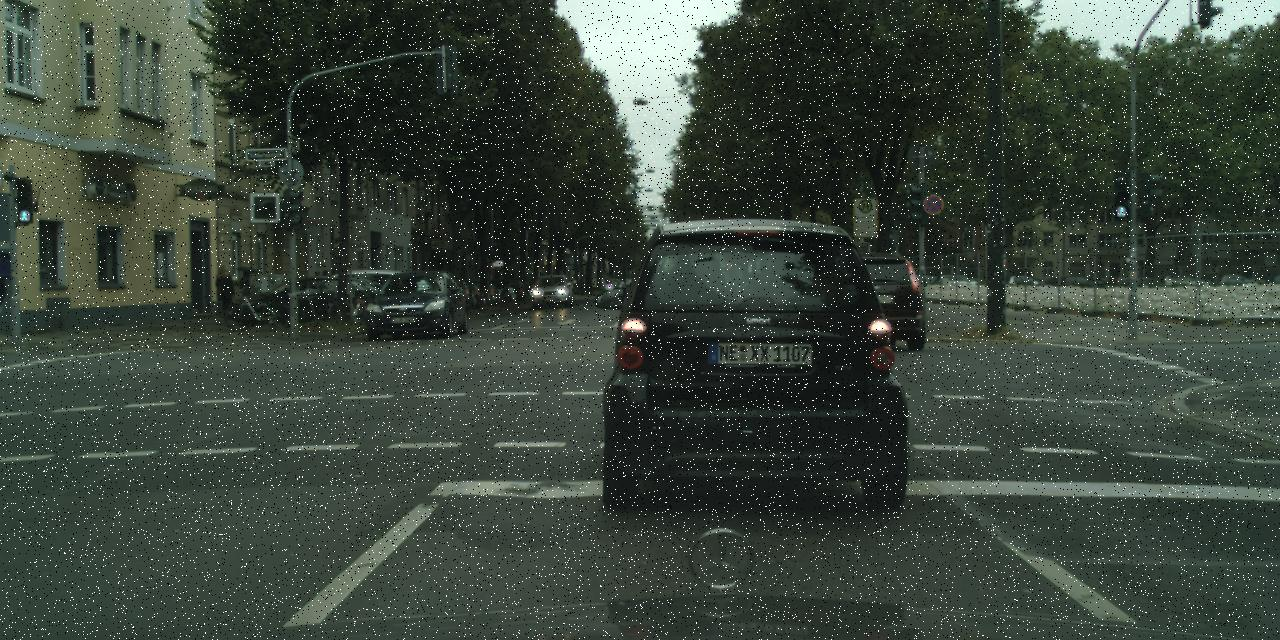ped: (214, 263, 236, 318), (237, 266, 256, 313), (315, 270, 336, 276)
